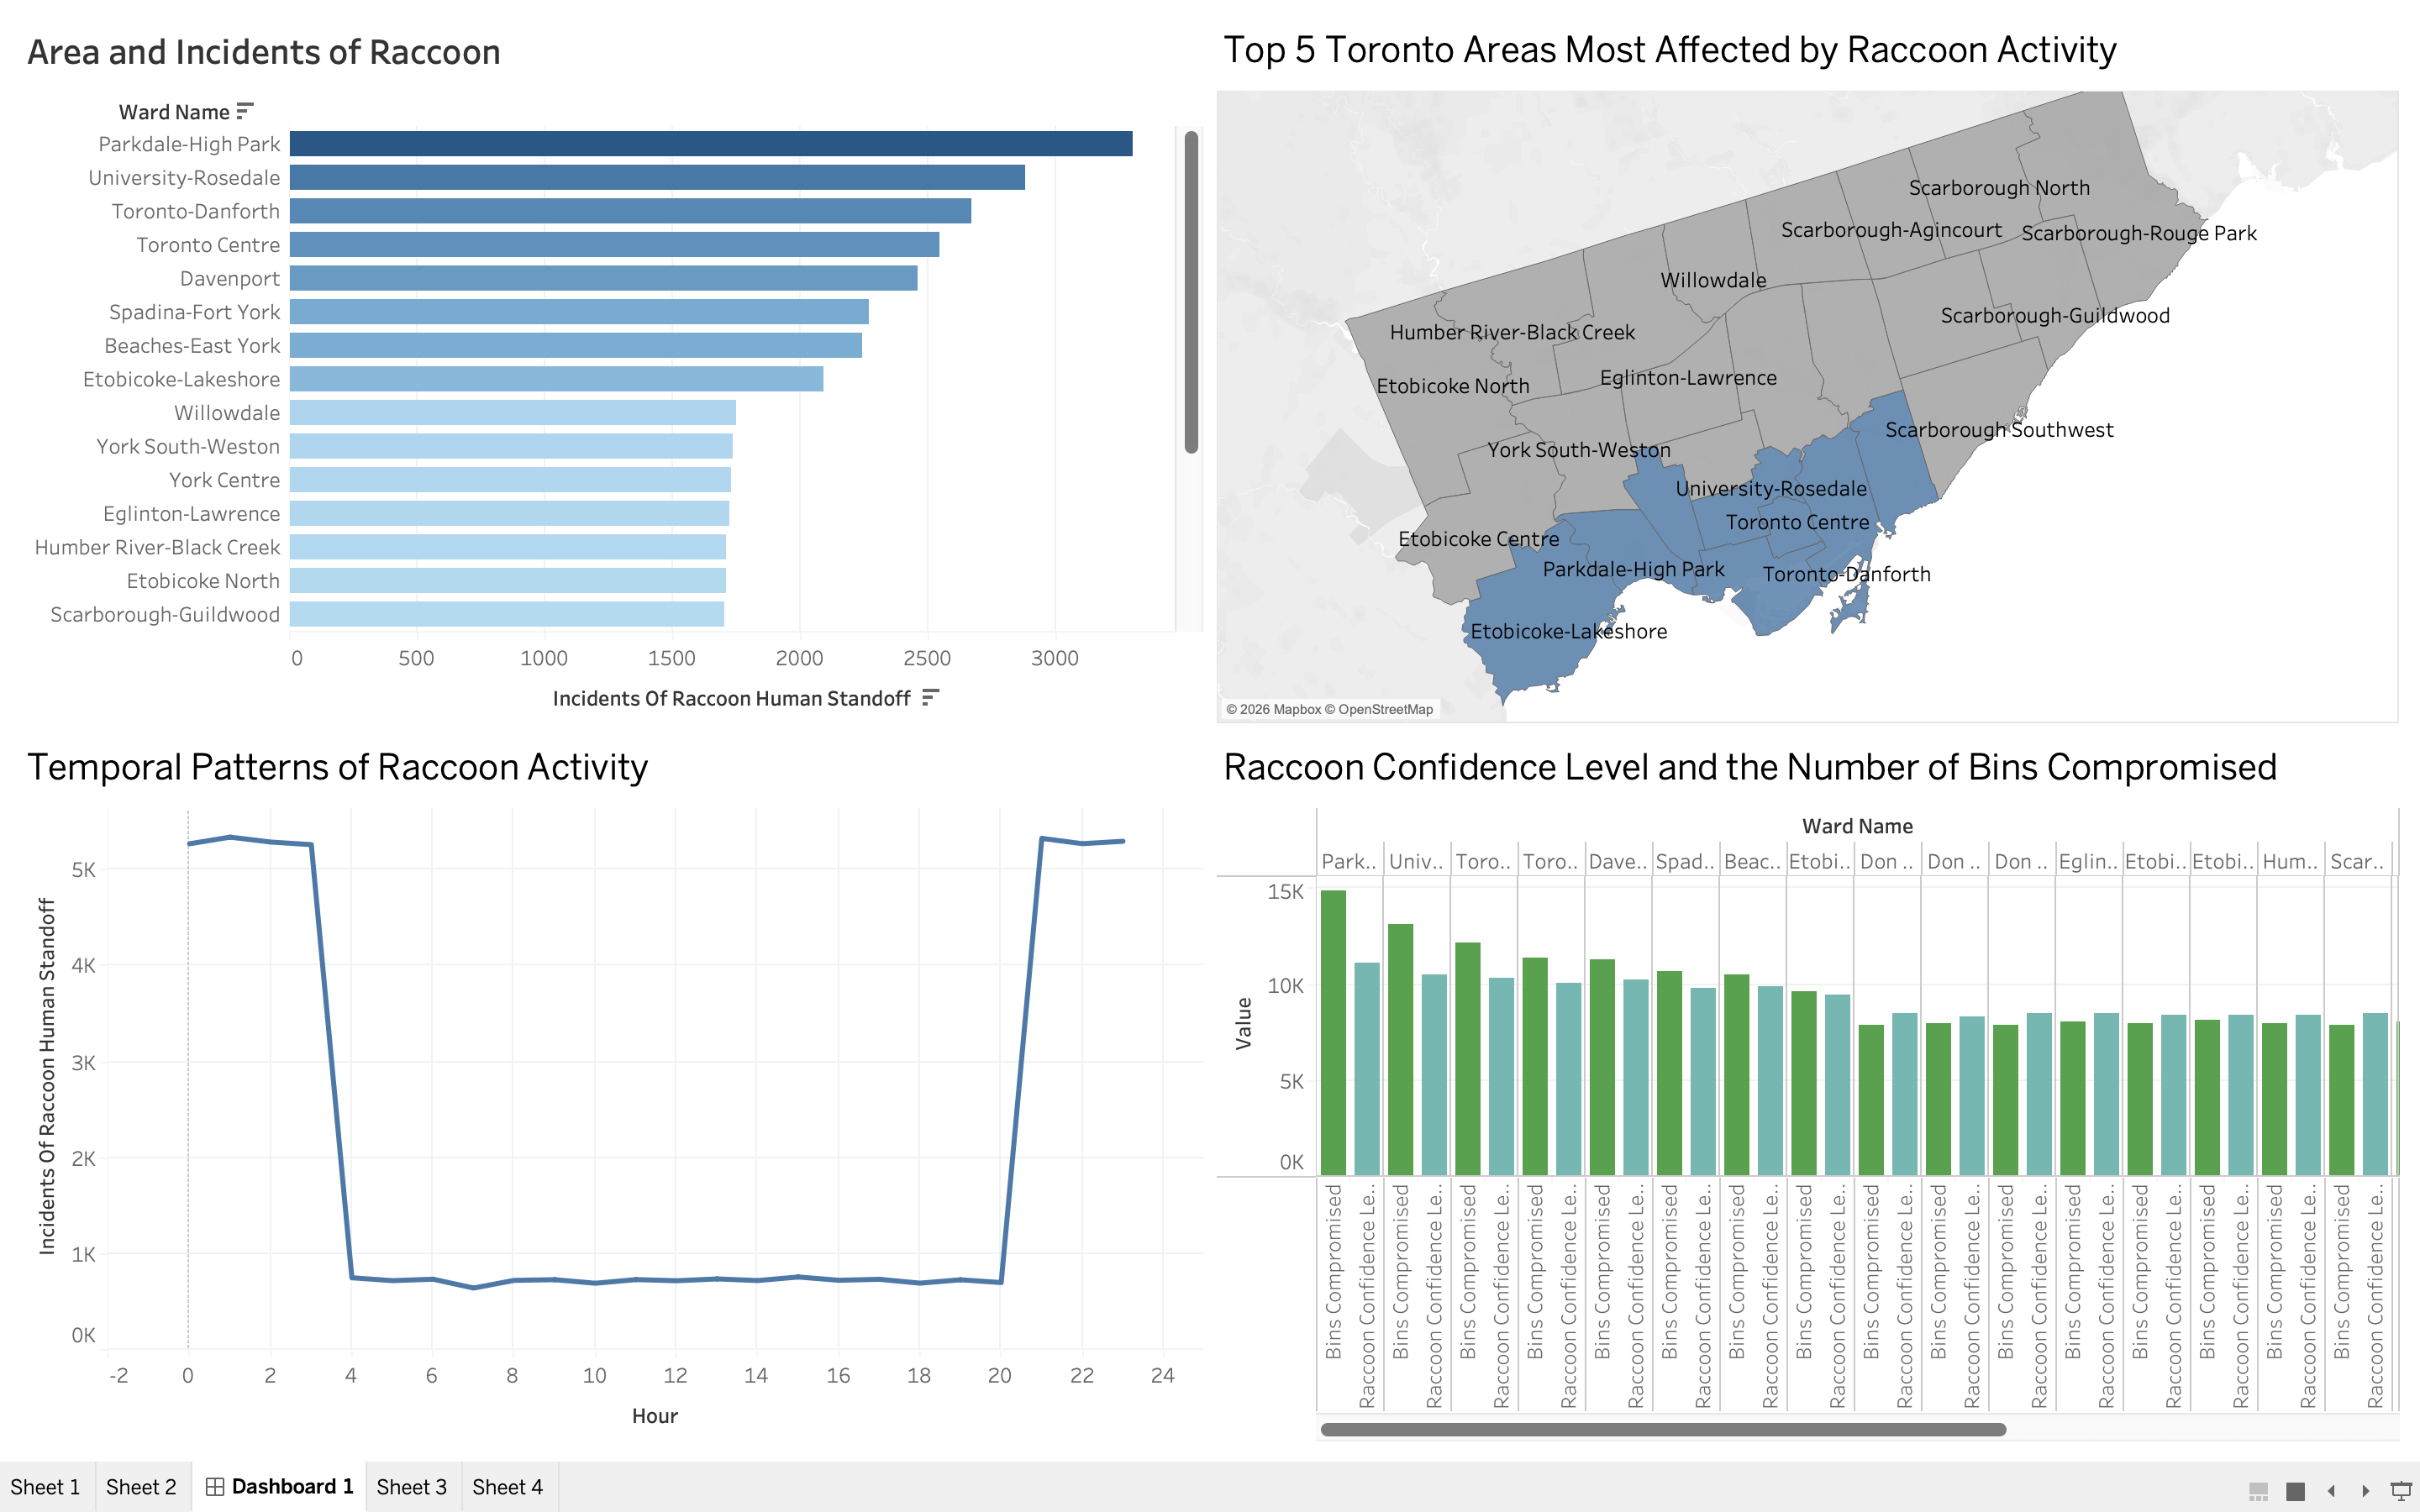

The page's visual inventory and layout, read from the dashboard file:
{"tool":"tableau","page":{"name":"Dashboard 1","canvas":[1000,1000],"units":"permille","ordinal":0},"visuals":[{"type":"worksheet","title":"Sheet 1","mark":"Automatic","rows":["ward_name"],"cols":["incidents_of_raccoon_human_standoff"],"box":[6.5,9.9,424.7,508.6]},{"type":"worksheet","title":"Sheet 4","mark":"Automatic","box":[431.2,9.9,378.4,508.6]},{"type":"worksheet","title":"Sheet 6","mark":"Automatic","rows":["AREA_NAME"],"box":[809.6,9.9,183.9,508.6]},{"type":"worksheet","title":"Sheet 3","mark":"Automatic","rows":["incidents_of_raccoon_human_standoff"],"cols":["hour"],"box":[6.5,518.5,493.1,471.6]},{"type":"worksheet","title":"Sheet 2","mark":"Automatic","cols":["ward_name"],"box":[499.6,518.5,493.9,471.6]}]}

Visuals, with their boxes on the dashboard's canvas, which has no fixed pixel size, in thousandths of its width and height (x1, y1, x2, y2). These are canvas units, not pixel positions in the 2420x1512 screenshot, which may show the page scaled, cropped or inside an application window:
"Sheet 1" worksheet: <box>6,10,431,518</box>
"Sheet 4" worksheet: <box>431,10,810,518</box>
"Sheet 6" worksheet: <box>810,10,994,518</box>
"Sheet 3" worksheet: <box>6,518,500,990</box>
"Sheet 2" worksheet: <box>500,518,994,990</box>
